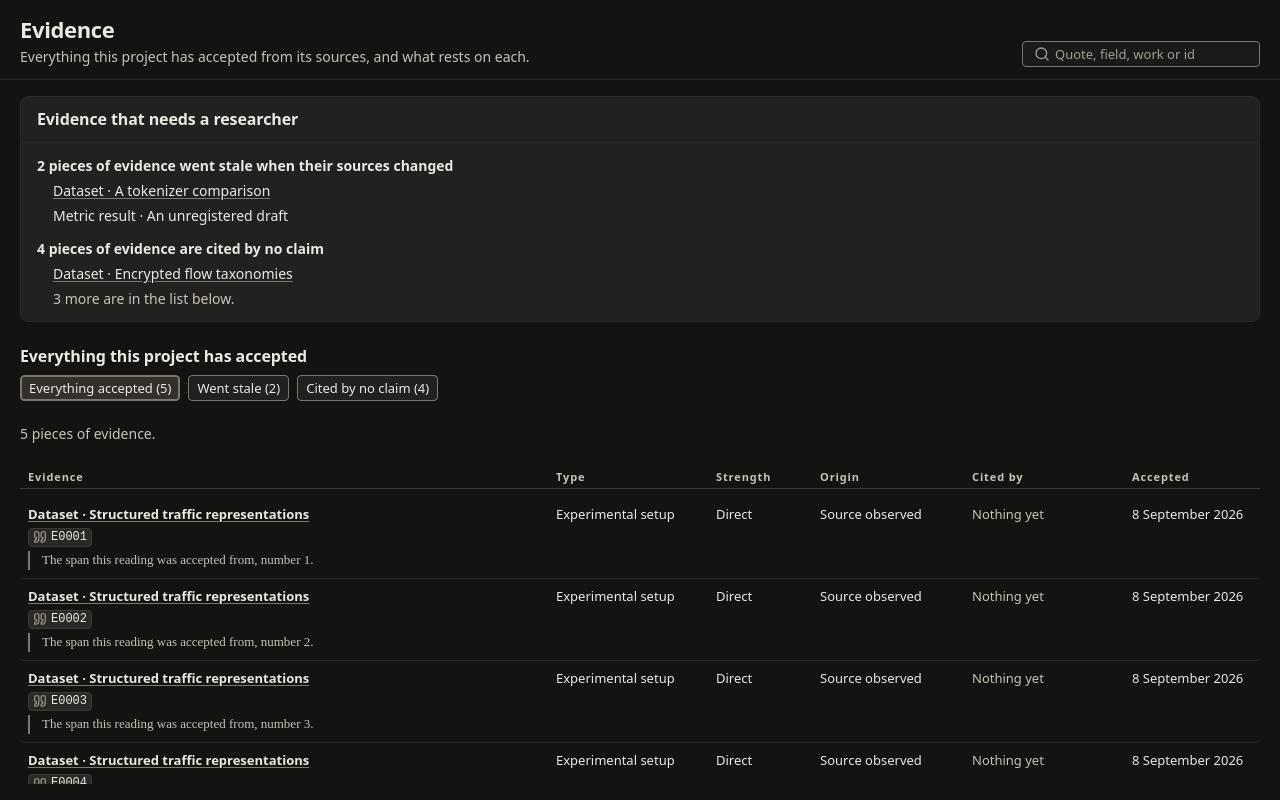
it: the questions the accepted record can be asked › finds inside a question, and says what it is finding inside
The image size is (1280, 800).
Expected: the message reads "5 pieces of evidence.", [20,424,156,443]
Click the button "Cited by no claim (4)": (368, 388) [297,375,438,401]
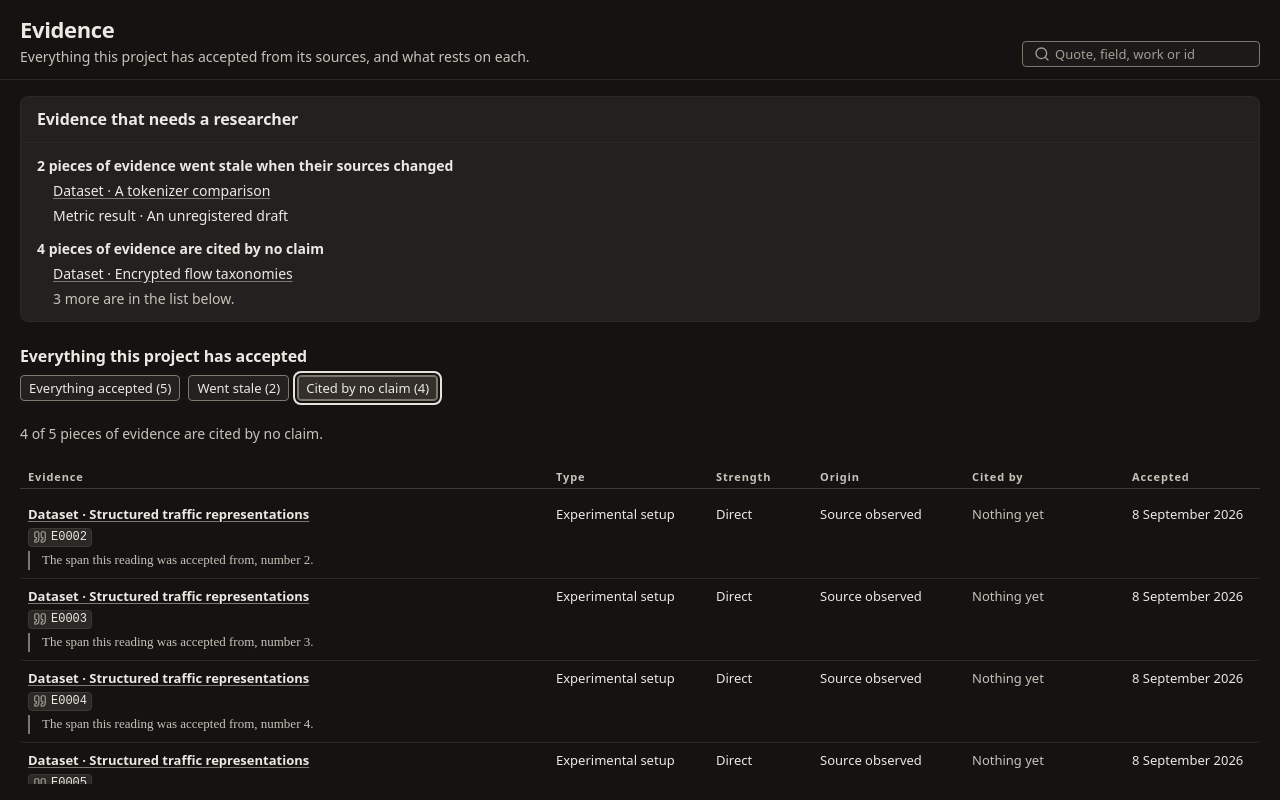
Now the message reads "4 of 5 pieces of evidence are cited by no claim.", box [20,424,323,443]
In the search field: (1141, 54) [1022,41,1260,67], type "number 3"
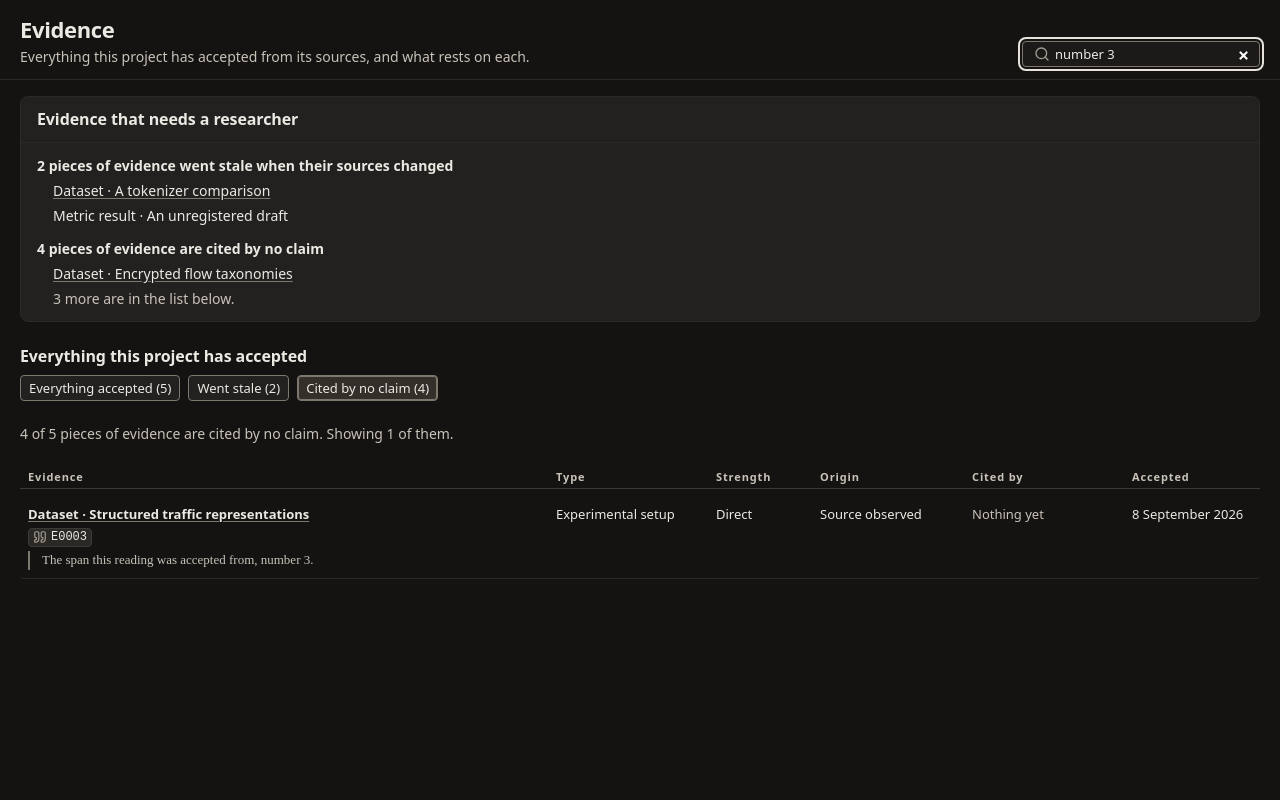
Expected: the text "The span this reading was accepted from, number 3." is shown, [28,551,470,570]
Now the message reads "4 of 5 pieces of evidence are cited by no claim. Showing 1 of them.", box [20,424,454,443]
